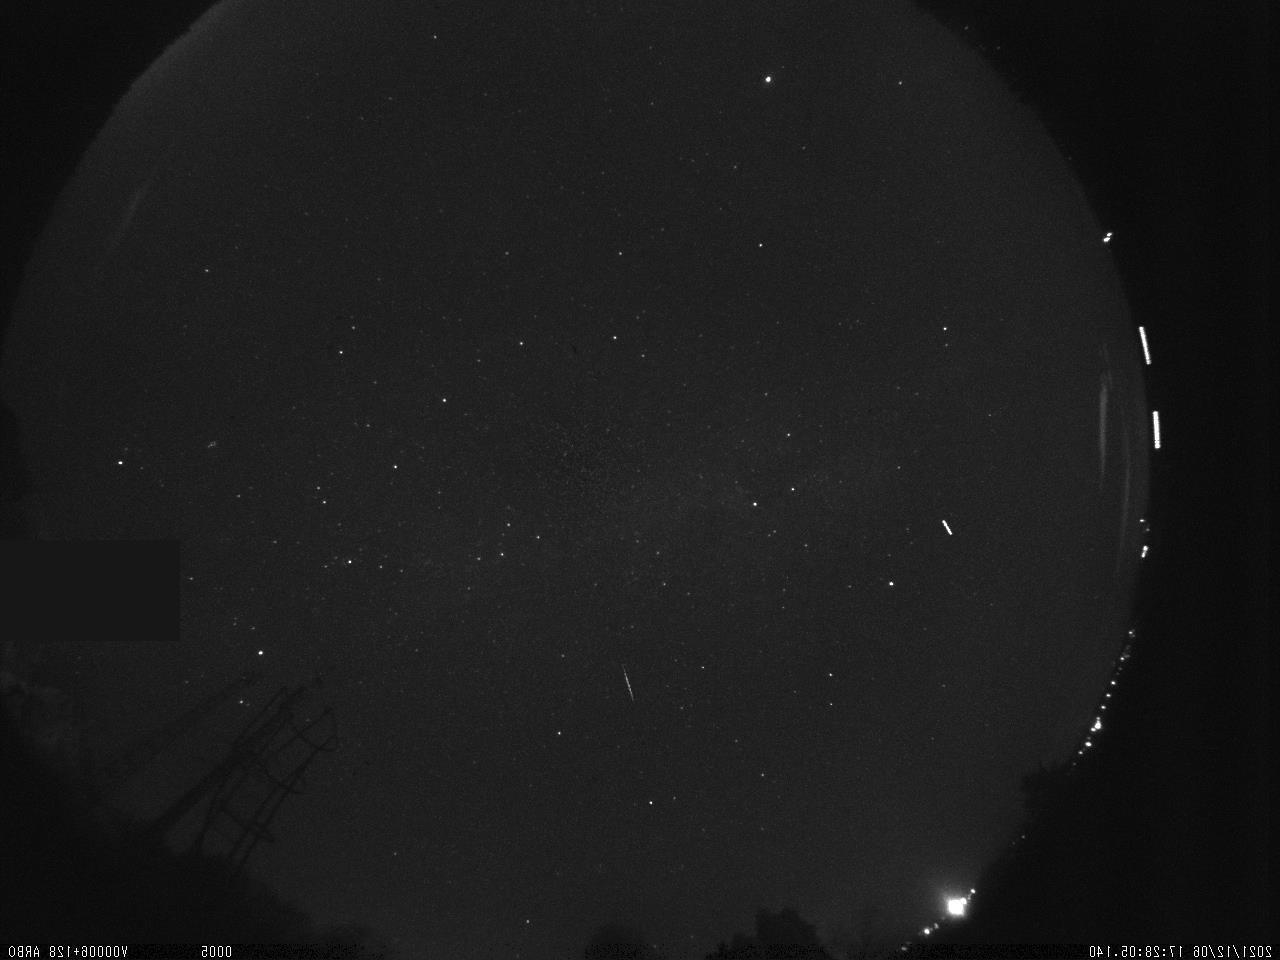meteor: (614, 657, 638, 705)
